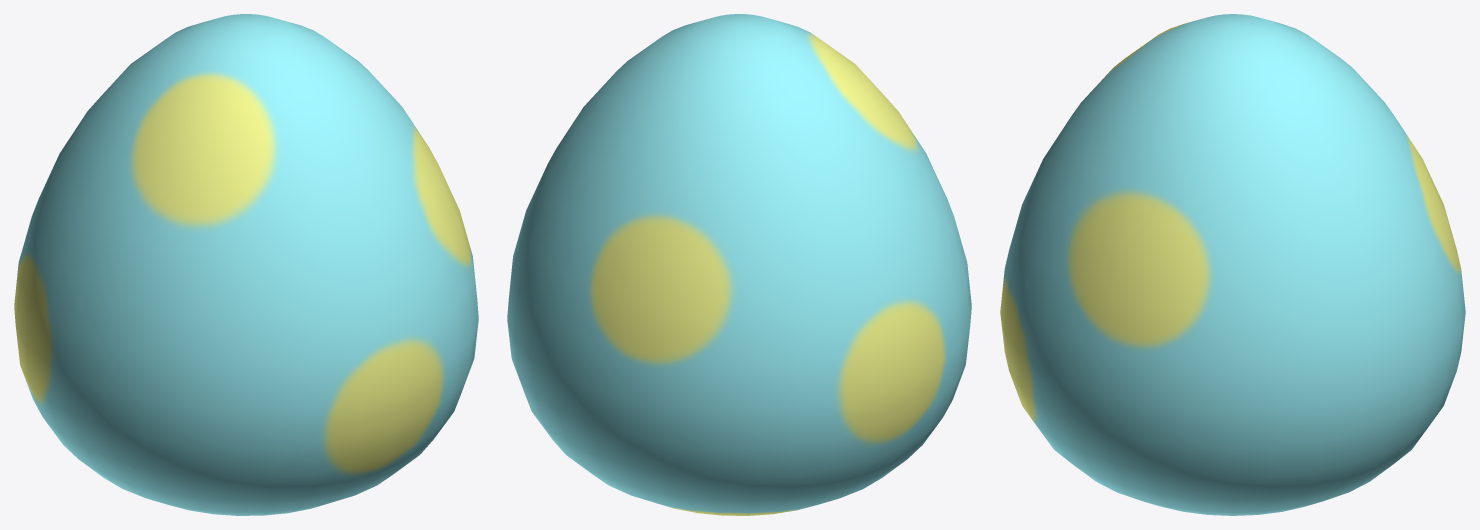
File: egg.glb
The picture shows the model from 3 angles, left to right: view 1: azimuth 30°, elevation 25°; view 2: azimuth 150°, elevation 25°; view 3: azimuth 270°, elevation 25°; orthographic projection.
Parts seen in each view (by area): view 1: Egg; view 2: Egg; view 3: Egg.
Boxes of the visible parts, x1,y1,x2,y2 form: Egg: (14,14,478,515); Egg: (507,14,971,515); Egg: (1000,14,1465,515).
Bounding box in the file's own units: 2.49 × 2.7 × 2.49.
1 material, 1 textured.
